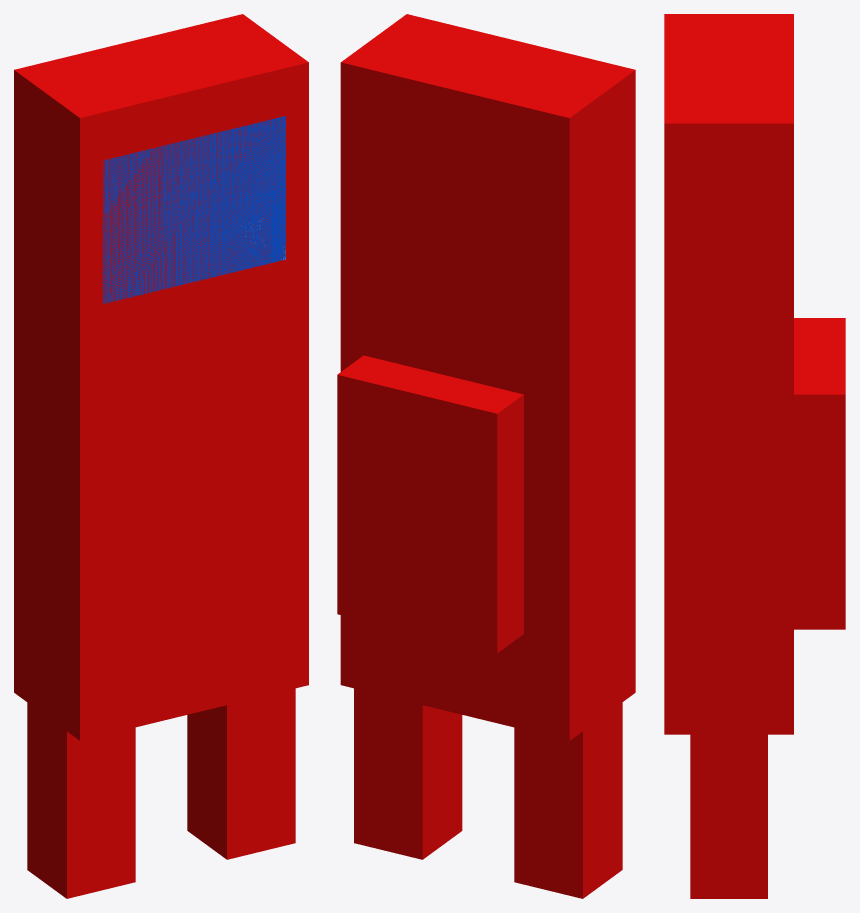
File: Among Us Char(Red).gltf
The picture shows the model from 3 angles, left to right: view 1: azimuth 30°, elevation 25°; view 2: azimuth 150°, elevation 25°; view 3: azimuth 270°, elevation 25°; orthographic projection.
Parts seen in each view (by area): view 1: 05df4ede-f837-c188-2e33-ef64abd97eee, cc3eb372-91fc-9da0-78a3-6f8f9a1f2dee, 9b6c5594-3cbf-47c0-bc0a-358ef91bbe2c, 3fa73543-9e25-d95c-6e87-302f2be02166, 2d3a24b5-ea57-e50f-346a-9413c0539ccd; view 2: cc3eb372-91fc-9da0-78a3-6f8f9a1f2dee, 05df4ede-f837-c188-2e33-ef64abd97eee, 5496d620-28b4-4bca-3728-1c5a1bee6332, 3fa73543-9e25-d95c-6e87-302f2be02166, 2d3a24b5-ea57-e50f-346a-9413c0539ccd; view 3: 05df4ede-f837-c188-2e33-ef64abd97eee, cc3eb372-91fc-9da0-78a3-6f8f9a1f2dee, 5496d620-28b4-4bca-3728-1c5a1bee6332, 2d3a24b5-ea57-e50f-346a-9413c0539ccd.
Boxes of the visible parts, bbox=[...] form: 05df4ede-f837-c188-2e33-ef64abd97eee: bbox=[14, 302, 308, 740]; cc3eb372-91fc-9da0-78a3-6f8f9a1f2dee: bbox=[14, 14, 308, 357]; 9b6c5594-3cbf-47c0-bc0a-358ef91bbe2c: bbox=[103, 116, 285, 303]; 3fa73543-9e25-d95c-6e87-302f2be02166: bbox=[27, 702, 135, 898]; 2d3a24b5-ea57-e50f-346a-9413c0539ccd: bbox=[187, 688, 295, 859]; cc3eb372-91fc-9da0-78a3-6f8f9a1f2dee: bbox=[340, 14, 635, 357]; 05df4ede-f837-c188-2e33-ef64abd97eee: bbox=[340, 302, 635, 740]; 5496d620-28b4-4bca-3728-1c5a1bee6332: bbox=[337, 355, 523, 653]; 3fa73543-9e25-d95c-6e87-302f2be02166: bbox=[514, 702, 622, 898]; 2d3a24b5-ea57-e50f-346a-9413c0539ccd: bbox=[354, 688, 462, 859]; 05df4ede-f837-c188-2e33-ef64abd97eee: bbox=[664, 358, 793, 734]; cc3eb372-91fc-9da0-78a3-6f8f9a1f2dee: bbox=[664, 14, 793, 358]; 5496d620-28b4-4bca-3728-1c5a1bee6332: bbox=[794, 318, 845, 629]; 2d3a24b5-ea57-e50f-346a-9413c0539ccd: bbox=[690, 734, 767, 898].
Size of the model in its own units: 0.625 by 2.06 by 0.4375.
4 materials, 4 textured.
